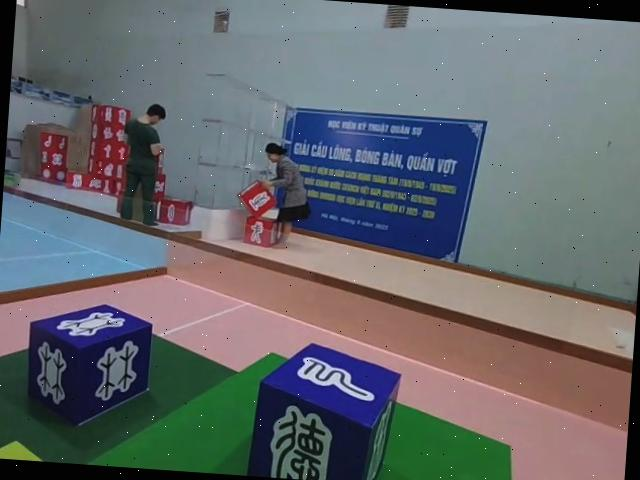R2 Fake Blue: (249, 340, 404, 480)
R2 Real Blue: (20, 301, 152, 434)
